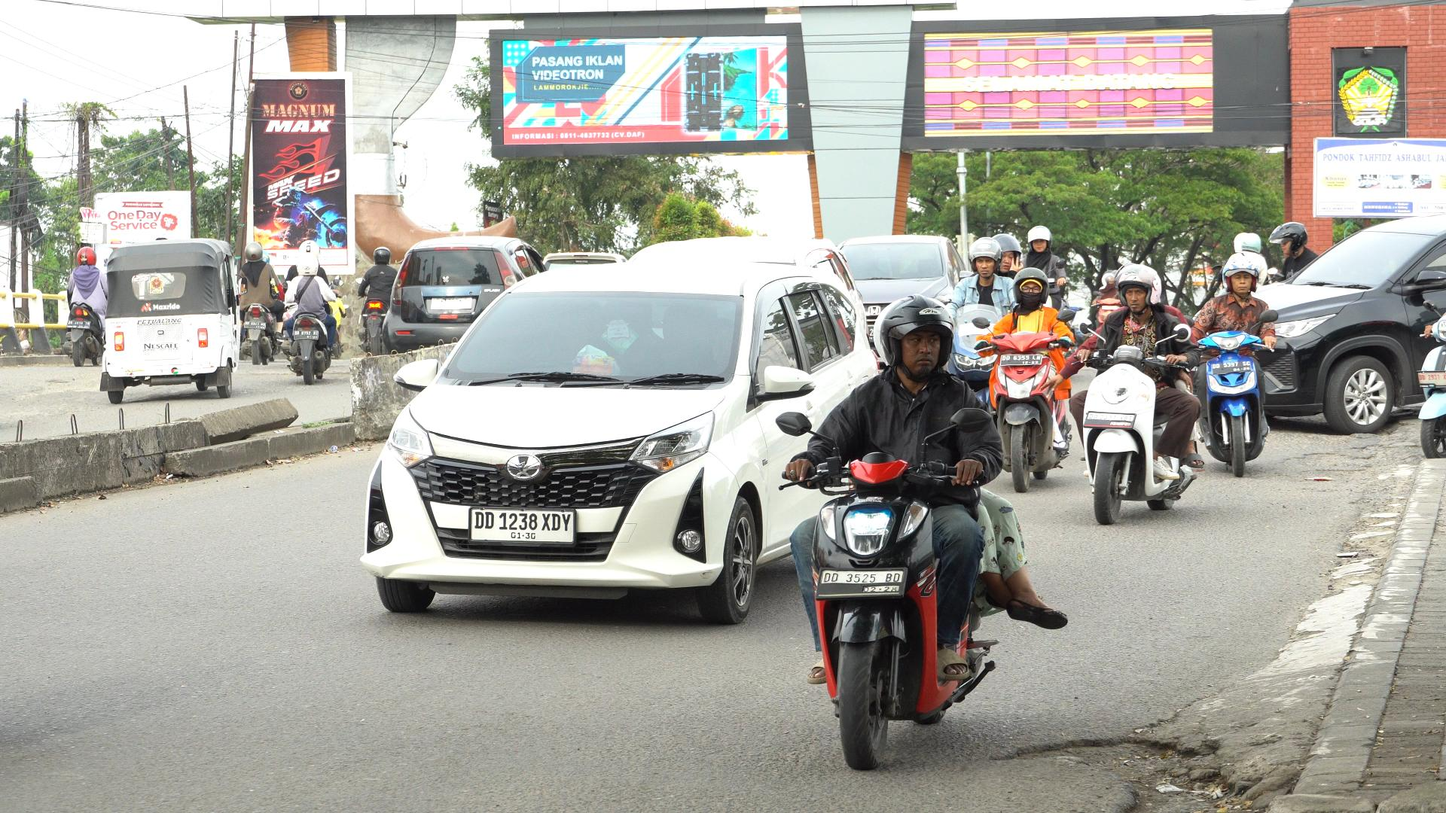number-plate: (816, 571, 906, 596), (1081, 405, 1136, 433), (1208, 357, 1251, 380), (1000, 348, 1041, 369)
